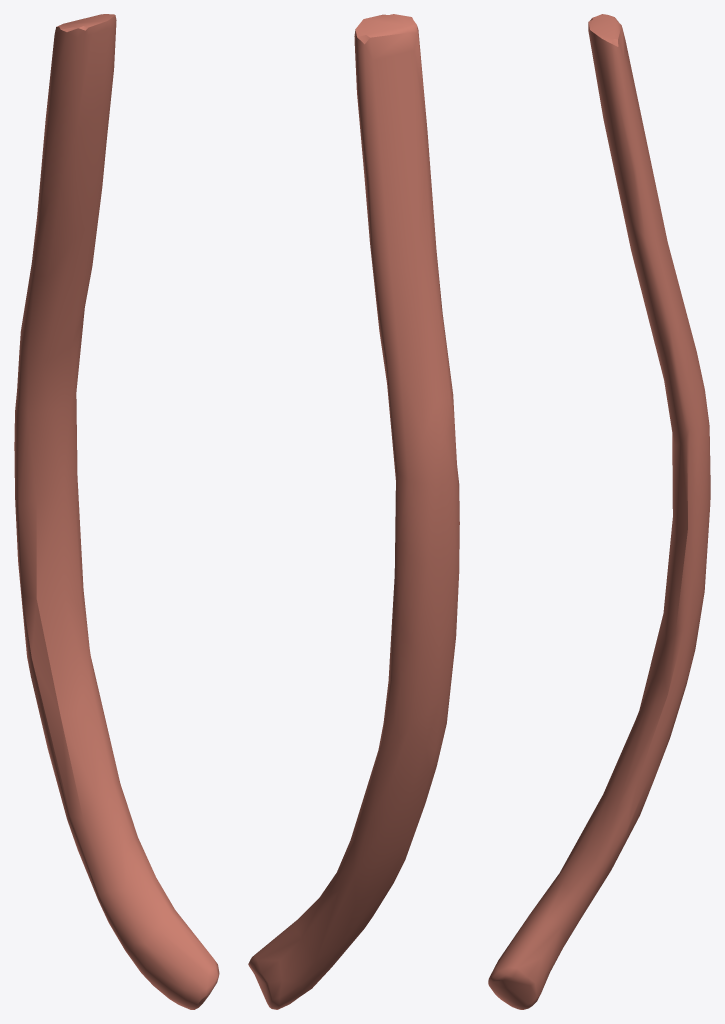
File: digestive.thorax.glb
3 renders of one model, left to right at view 1: azimuth 30°, elevation 25°; view 2: azimuth 210°, elevation 25°; view 3: azimuth 270°, elevation 25°, orthographic. The views are drawn at different scales.
Visible parts, largest first — view 1: esophagus; view 2: esophagus; view 3: esophagus.
Boxes of the visible parts, x1=… form: esophagus: x1=14, y1=14, x2=219, y2=1009; esophagus: x1=248, y1=14, x2=459, y2=1009; esophagus: x1=488, y1=14, x2=710, y2=1009.
Size of the model in its own units: 0.0324 by 0.2744 by 0.0579.
